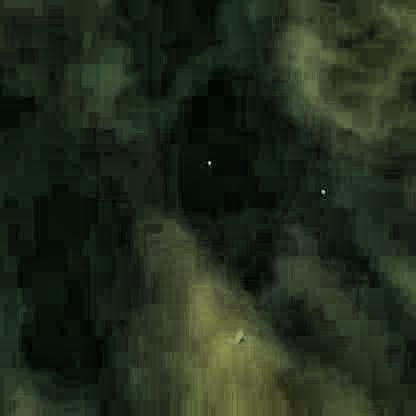golfball: (203, 156, 210, 163)
